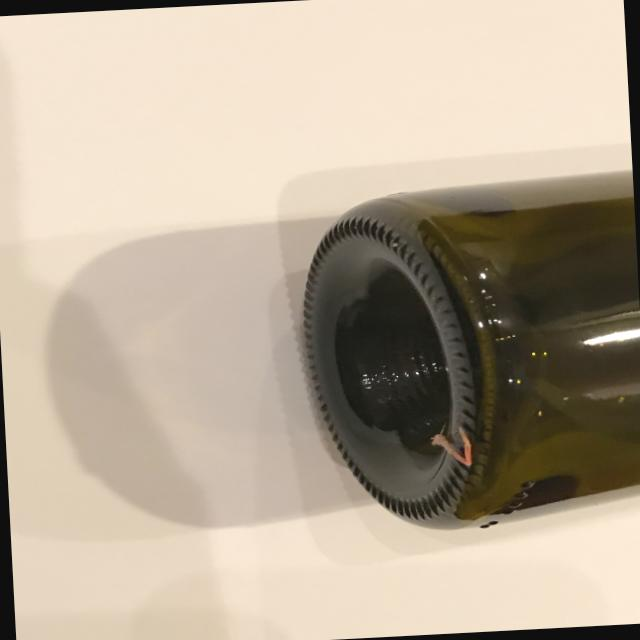Glass: (276, 159, 640, 545)
